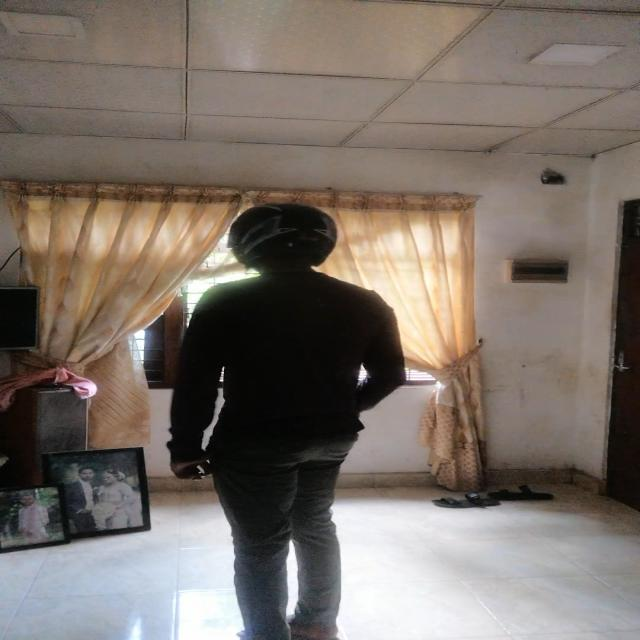Helmet_Wearer: (194, 200, 362, 278)
Person: (163, 193, 400, 640)
